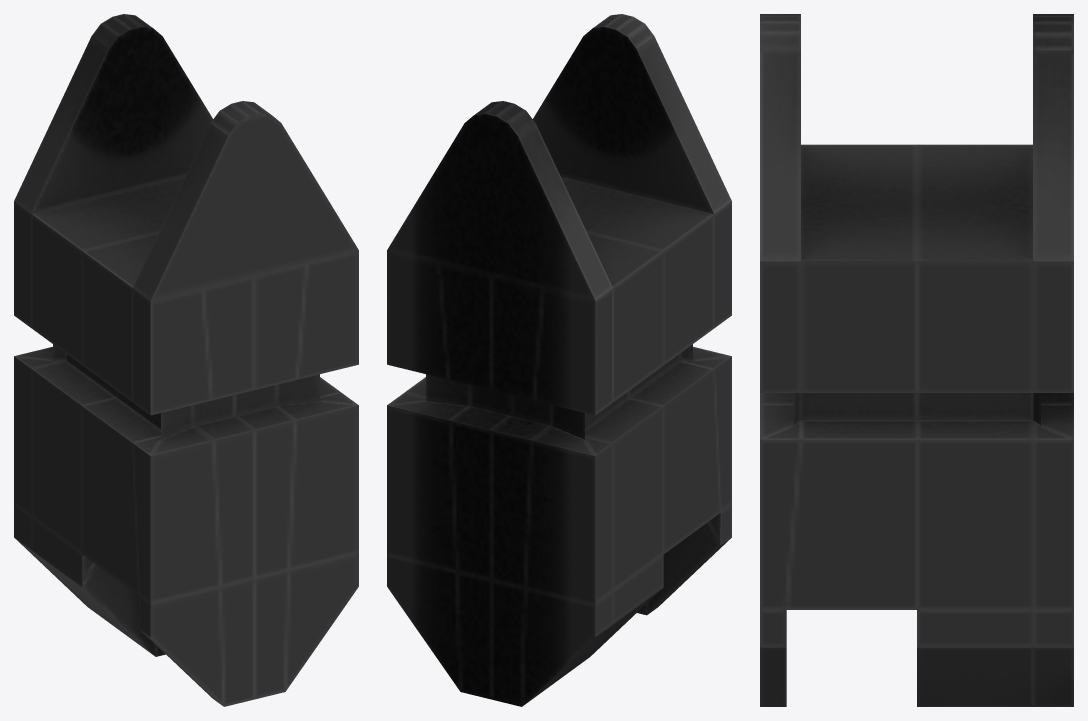
File: hand.dae
The picture shows the model from 3 angles, left to right: view 1: azimuth 30°, elevation 25°; view 2: azimuth 150°, elevation 25°; view 3: azimuth 270°, elevation 25°; orthographic projection. The views are drawn at different scales.
Visible parts, largest first — view 1: root-base-bigarm-smallarm-knuckle-hand; view 2: root-base-bigarm-smallarm-knuckle-hand; view 3: root-base-bigarm-smallarm-knuckle-hand.
Boxes of the visible parts, bbox=[...] form: root-base-bigarm-smallarm-knuckle-hand: bbox=[14, 14, 358, 706]; root-base-bigarm-smallarm-knuckle-hand: bbox=[387, 14, 731, 706]; root-base-bigarm-smallarm-knuckle-hand: bbox=[760, 14, 1073, 706].
Size of the model in its own units: 0.1143 by 0.1298 by 0.3063.
